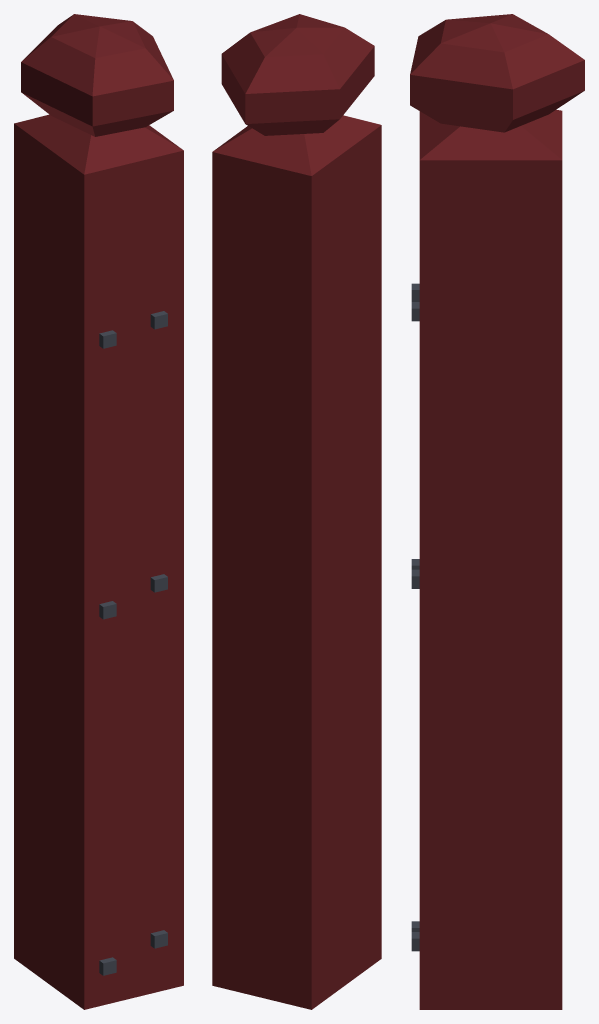
The model's file is Fence_3_3 Asia.fbx.
The picture shows the model from 3 angles, left to right: view 1: azimuth 30°, elevation 25°; view 2: azimuth 150°, elevation 25°; view 3: azimuth 270°, elevation 25°; orthographic projection.
Visible parts, largest first — view 1: Fence_3_3; view 2: Fence_3_3; view 3: Fence_3_3.
Part boxes in pixels (left/top/right/bottom): Fence_3_3: left=14, top=14, right=183, bottom=1009; Fence_3_3: left=212, top=14, right=381, bottom=1009; Fence_3_3: left=410, top=14, right=584, bottom=1009.
Size of the model in its own units: 0.1437 by 1.04 by 0.1707.
